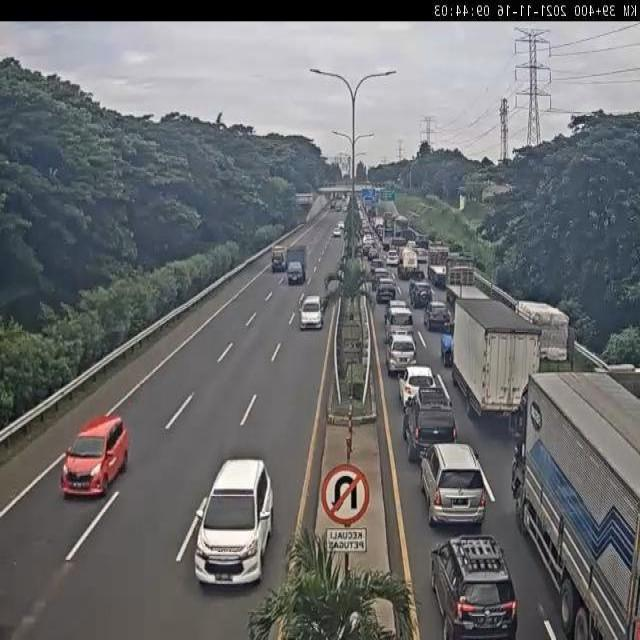Car: (193, 458, 272, 584), (430, 532, 519, 640), (420, 442, 488, 527), (60, 413, 127, 497), (404, 395, 458, 464), (397, 364, 438, 409), (385, 331, 417, 376), (424, 300, 452, 333), (299, 294, 324, 330), (385, 301, 413, 333), (409, 280, 433, 308), (375, 278, 397, 304), (372, 267, 389, 290), (370, 258, 385, 276), (386, 249, 399, 266), (362, 234, 373, 253), (367, 245, 379, 261), (375, 223, 384, 241), (333, 224, 343, 237)
Truck: (517, 370, 640, 636), (450, 294, 541, 430), (427, 245, 450, 281), (286, 246, 306, 283), (398, 246, 420, 279)
